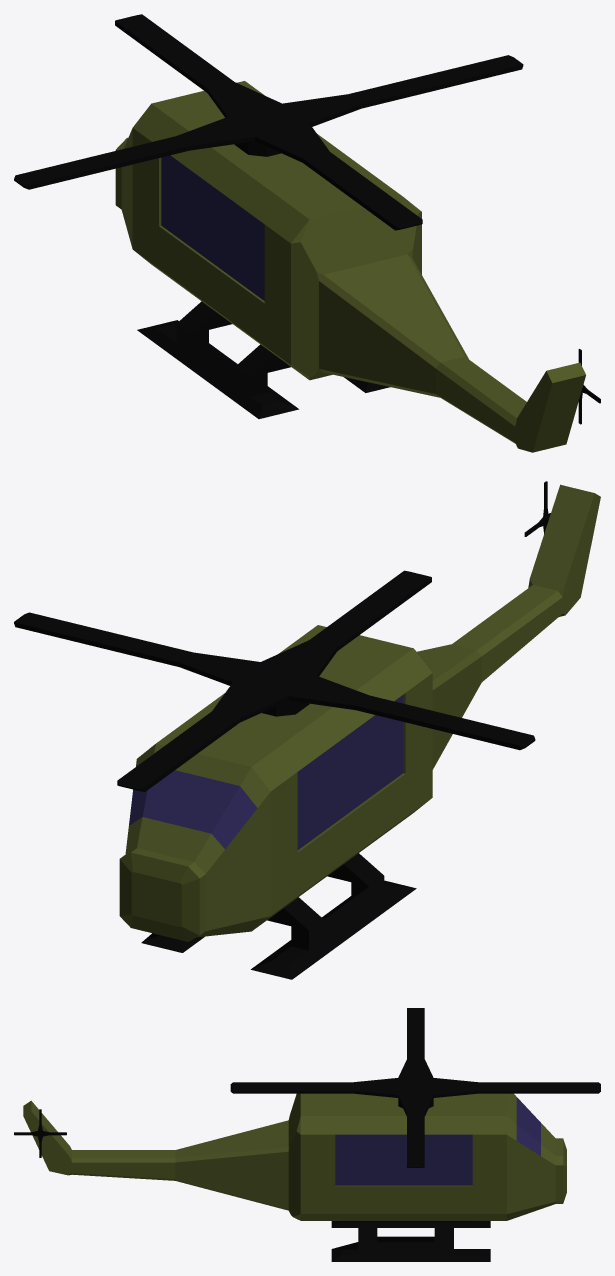
Rendered from Helicopter.fbx.
3 views of the same model, one above another, from view 1: azimuth 30°, elevation 25°; view 2: azimuth 150°, elevation 25°; view 3: azimuth 270°, elevation 25° (orthographic). The views are drawn at different scales.
Parts seen in each view (by area): view 1: Body, TopRota, Legs; view 2: Body, TopRota, Legs; view 3: Body, TopRota, Legs, BackRota.
Part boxes in pixels (x1=…): Body: x1=115, y1=81, x2=585, y2=452; TopRota: x1=14, y1=14, x2=523, y2=230; Legs: x1=137, y1=301, x2=390, y2=418; Body: x1=119, y1=484, x2=600, y2=941; TopRota: x1=14, y1=570, x2=535, y2=791; Legs: x1=141, y1=853, x2=416, y2=979; Body: x1=23, y1=1093, x2=566, y2=1220; TopRota: x1=230, y1=1008, x2=600, y2=1167; Legs: x1=331, y1=1221, x2=490, y2=1261; BackRota: x1=14, y1=1109, x2=66, y2=1157.
Size of the model in its own units: 1069 by 478 by 1670.
